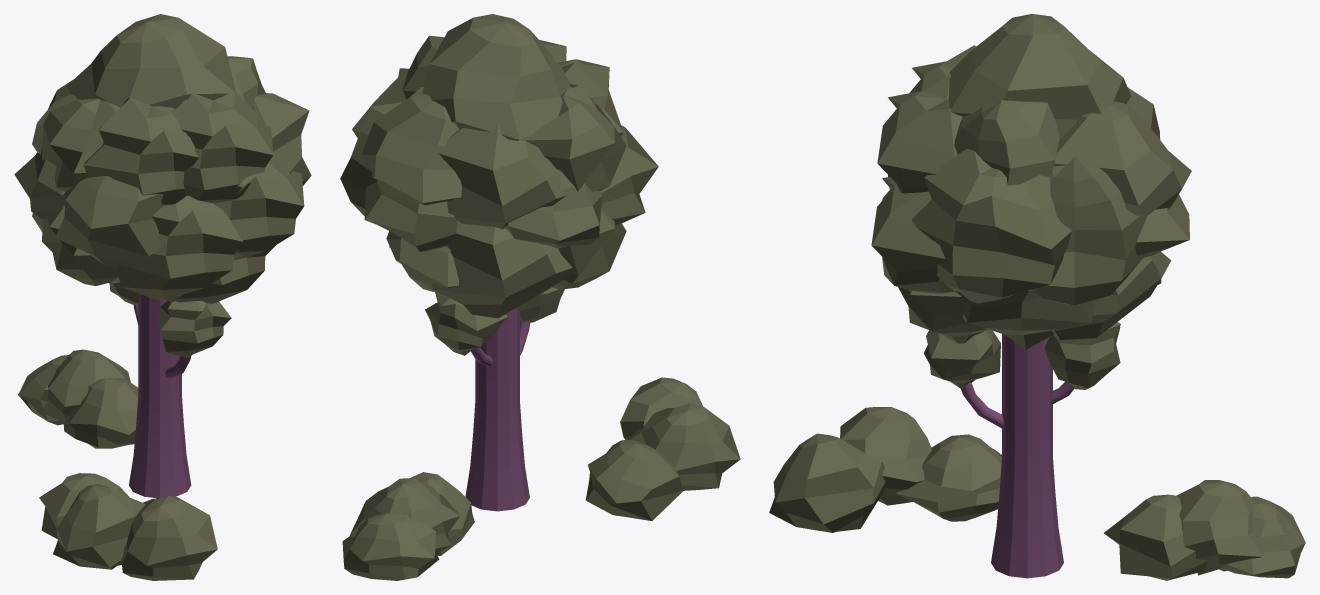
File: boom infected.fbx
3 views of the same model, side by side, from view 1: azimuth 30°, elevation 25°; view 2: azimuth 150°, elevation 25°; view 3: azimuth 270°, elevation 25° (orthographic). The views are drawn at different scales.
Parts seen in each view (by area): view 1: boom1, struikhoek1, struikrecht1; view 2: boom1, struikhoek1, struikrecht1; view 3: boom1, struikhoek1, struikrecht1.
Part boxes in pixels (left/top/right/bottom): boom1: left=14, top=14, right=311, bottom=498; struikhoek1: left=39, top=473, right=217, bottom=580; struikrecht1: left=18, top=349, right=138, bottom=448; boom1: left=340, top=14, right=658, bottom=511; struikhoek1: left=585, top=377, right=740, bottom=520; struikrecht1: left=342, top=472, right=474, bottom=580; boom1: left=871, top=14, right=1191, bottom=578; struikhoek1: left=769, top=407, right=1001, bottom=532; struikrecht1: left=1104, top=480, right=1305, bottom=580.
Bounding box in the file's own units: 2.85 × 4.34 × 3.83.
